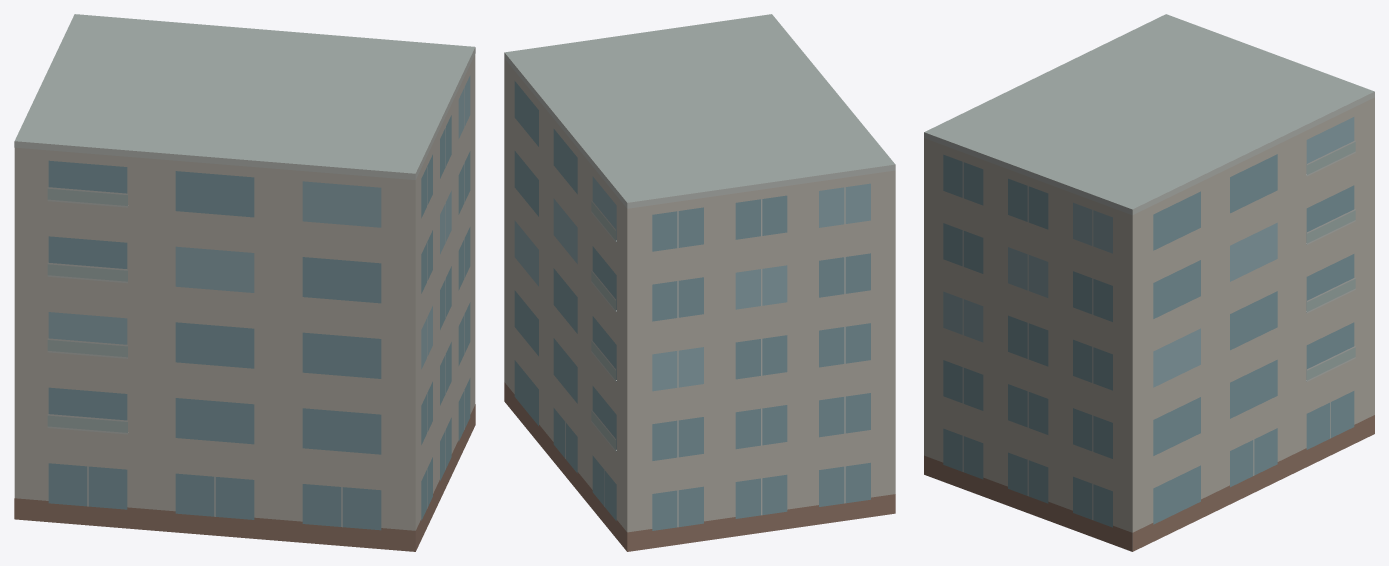
The model's file is survey-upis-32678486.glb.
The picture shows the model from 3 angles, left to right: view 1: azimuth 30°, elevation 25°; view 2: azimuth 150°, elevation 25°; view 3: azimuth 270°, elevation 25°; orthographic projection. The views are drawn at different scales.
Visible parts, largest first — view 1: survey-upis-32678486.tmp; view 2: survey-upis-32678486.tmp; view 3: survey-upis-32678486.tmp.
Boxes of the visible parts, bbox=[...] form: survey-upis-32678486.tmp: bbox=[14, 14, 475, 551]; survey-upis-32678486.tmp: bbox=[504, 14, 895, 551]; survey-upis-32678486.tmp: bbox=[924, 14, 1374, 551].
Size of the model in its own units: 17.56 by 14.34 by 17.12.
